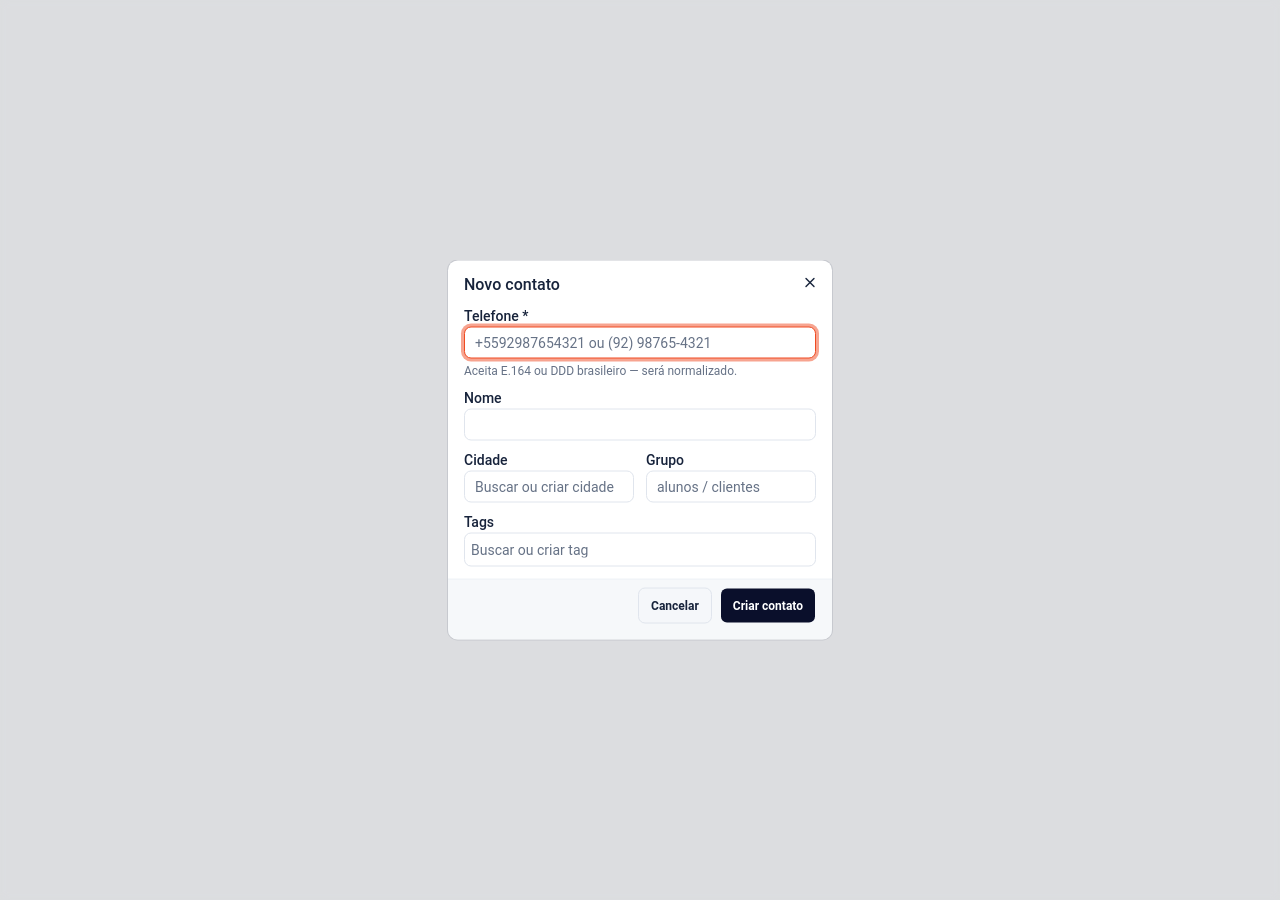
Test case: ContactFormDialog — validation › blocks submit and shows the min-length error for a short phone
The image size is (1280, 900).
Type "123" into the field labelled "Telefone *".
click(640, 342); type("123")  # box [464, 326, 816, 358]
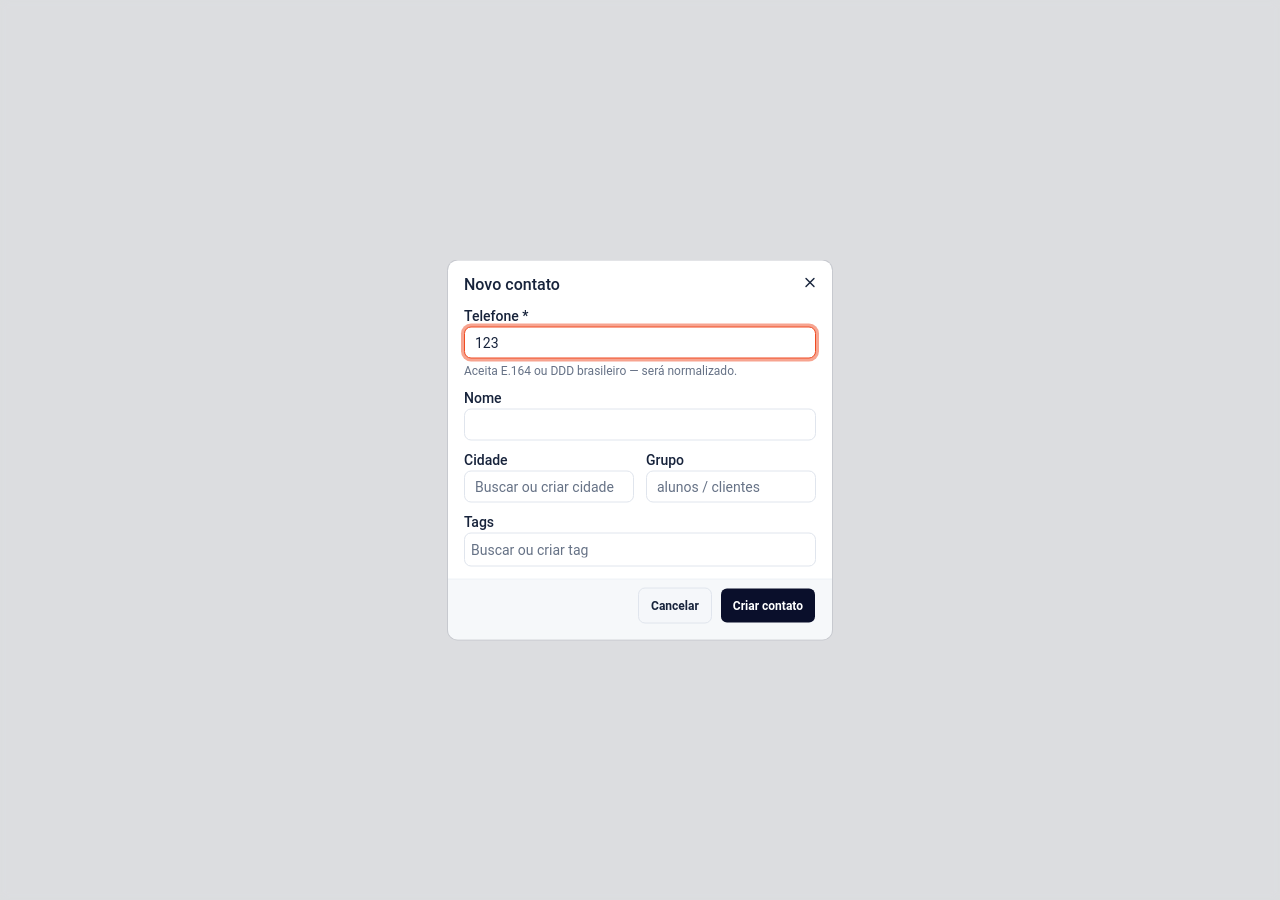
Click the button "Criar contato".
click(768, 606)  # box [720, 588, 816, 624]
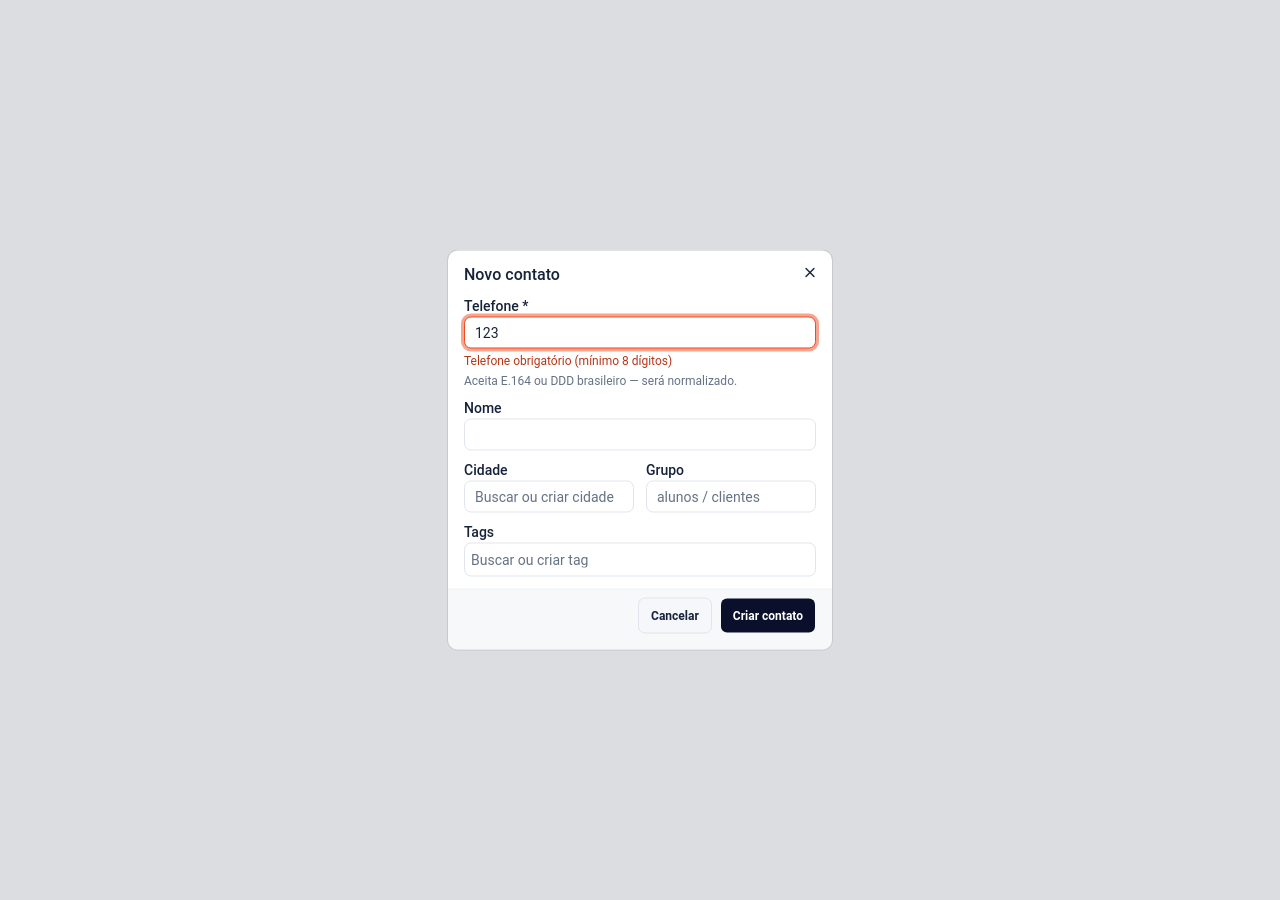
Expected: the text "Telefone obrigatório (mínimo 8 dígitos)" is shown, [464, 354, 672, 368]
